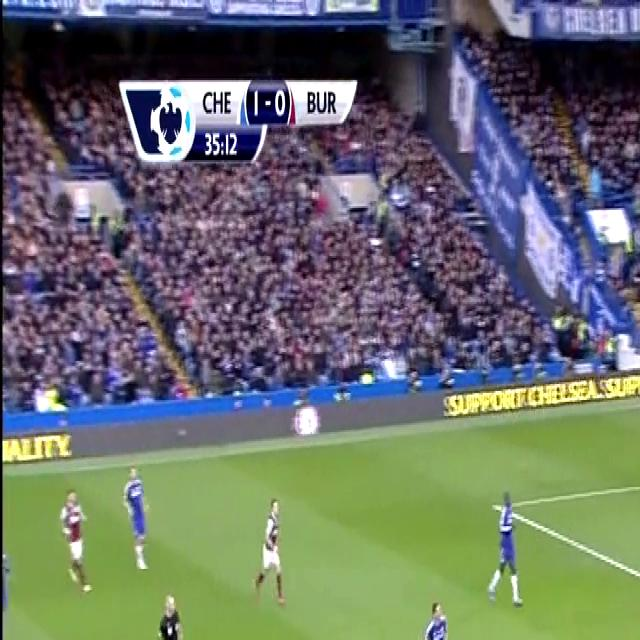referee: (148, 578, 189, 640)
soccer-player: (478, 477, 526, 617), (247, 486, 291, 614), (51, 478, 95, 602), (115, 453, 154, 581), (416, 586, 459, 640)
